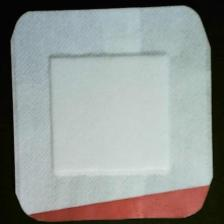Dressing: (7, 6, 220, 222)
Red_T: (24, 183, 218, 224)
